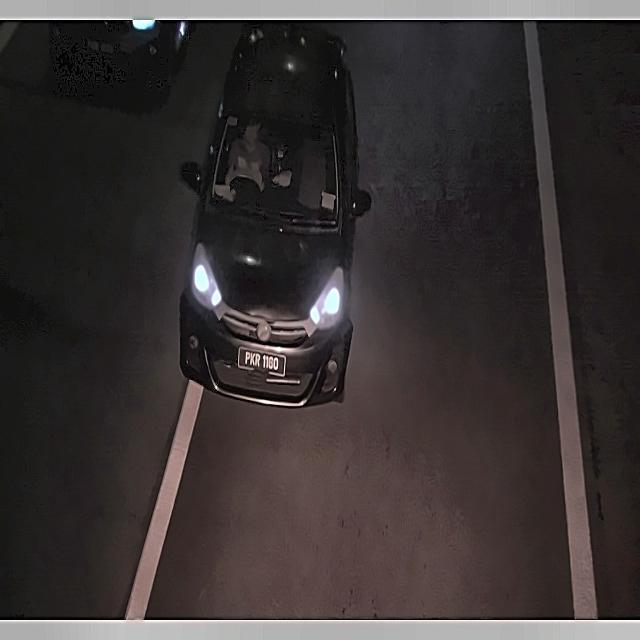car: (232, 340, 293, 381), (72, 33, 119, 66)
